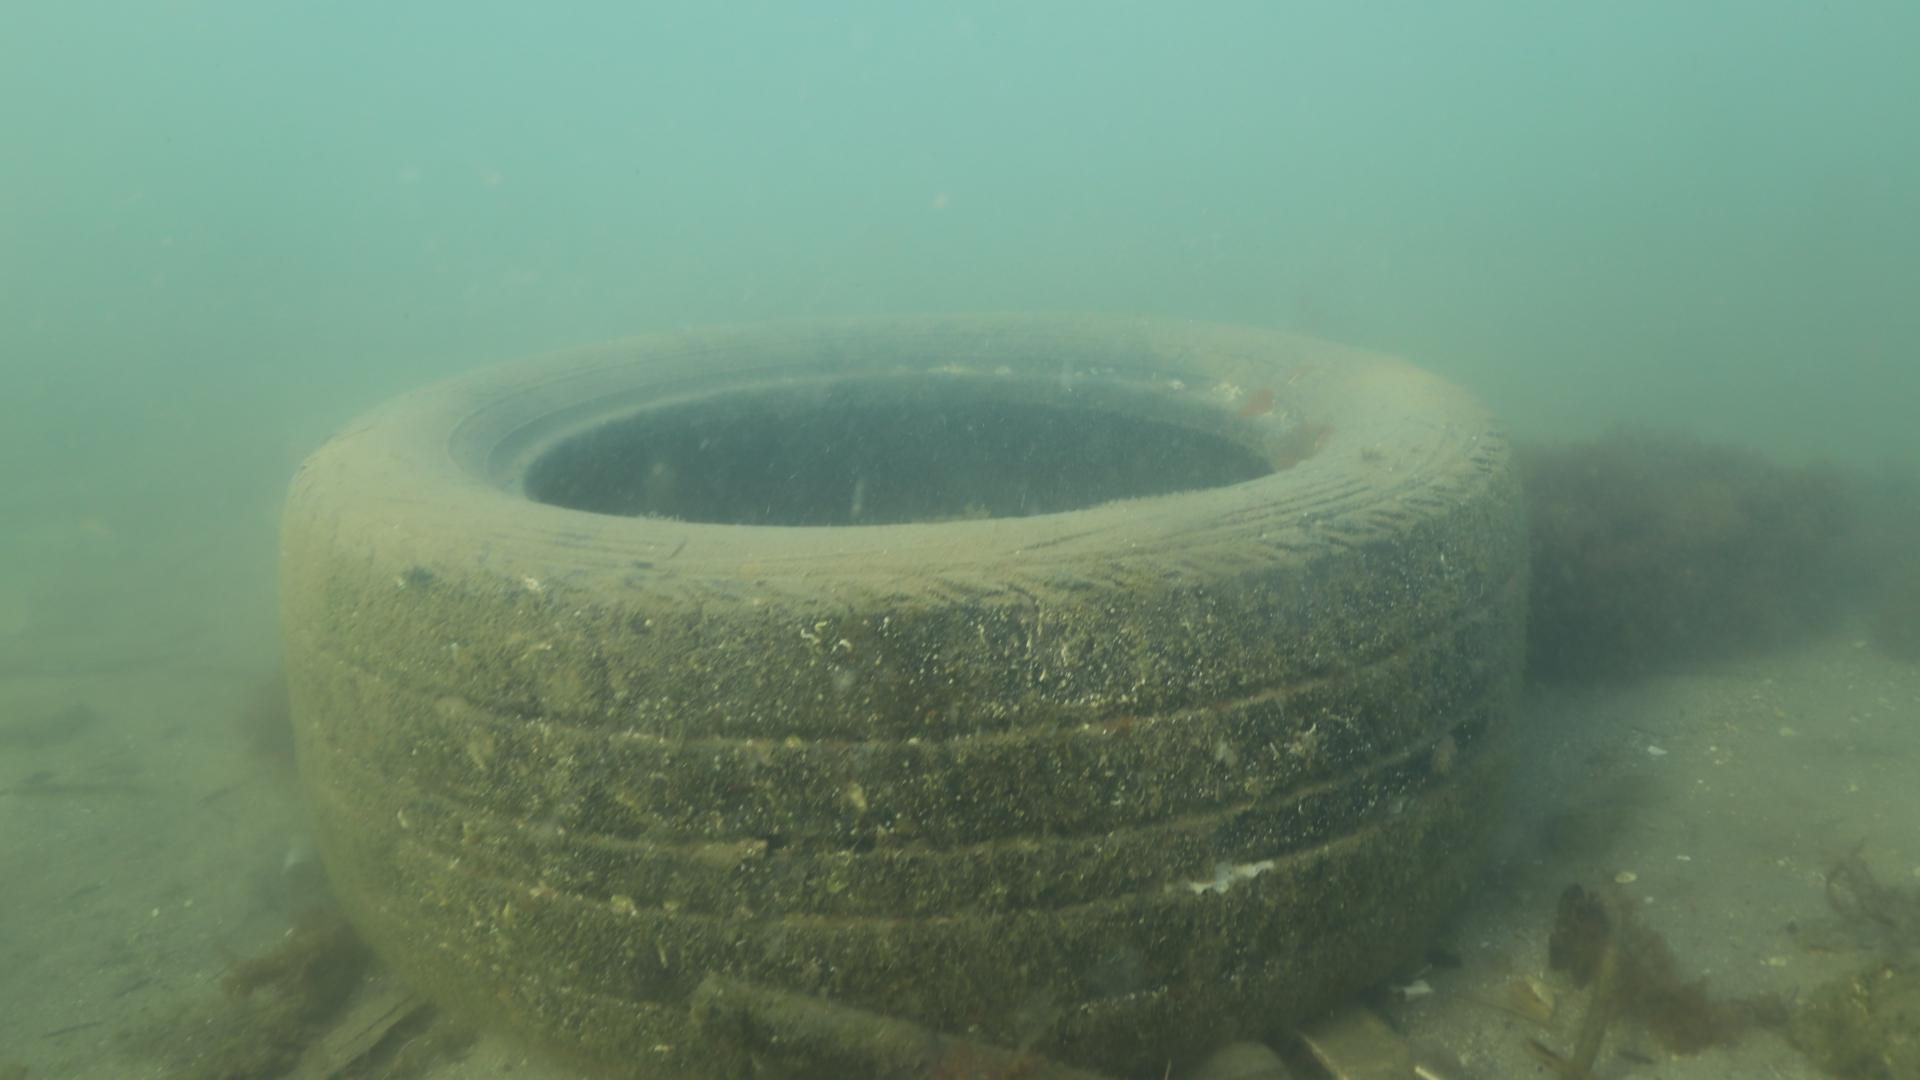tire: (272, 307, 1535, 1080)
